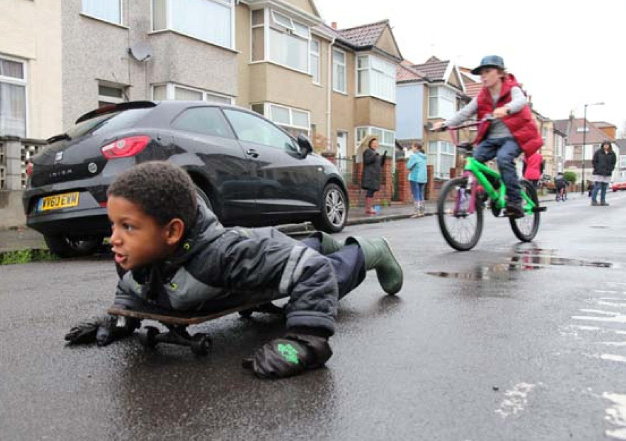Car: (14, 89, 355, 238)
Person: (61, 162, 406, 374), (463, 54, 547, 211), (585, 140, 624, 211)
